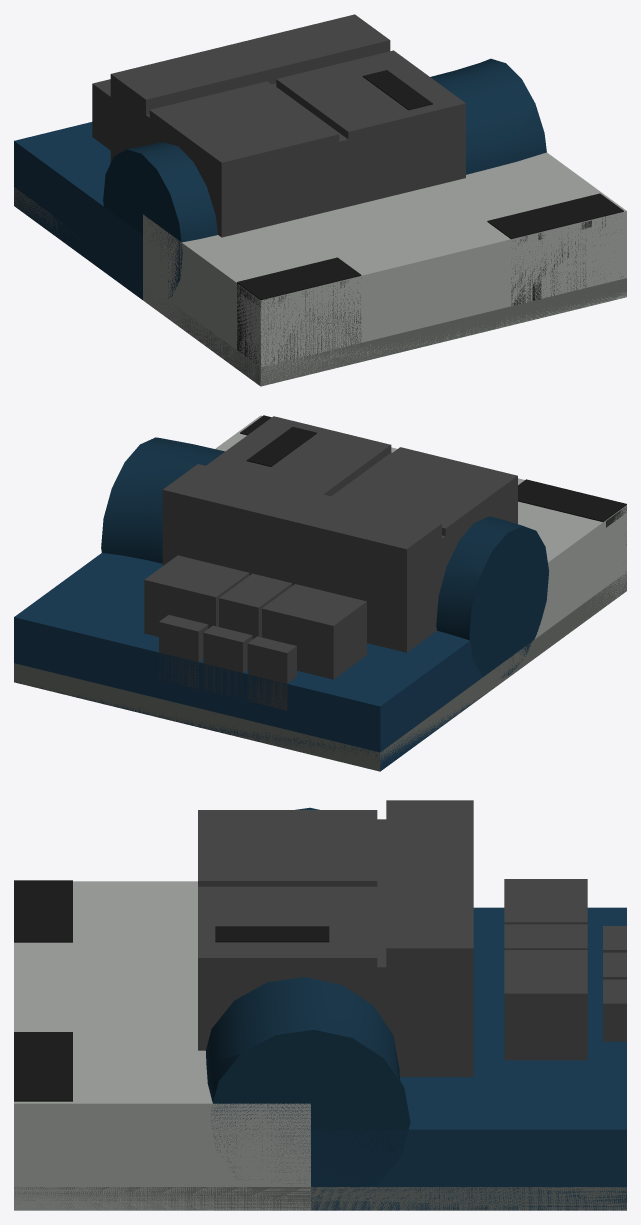
Rendered from newshb-119.glb.
3 views of the same model, one above another, from view 1: azimuth 30°, elevation 25°; view 2: azimuth 150°, elevation 25°; view 3: azimuth 270°, elevation 25° (orthographic). The views are drawn at different scales.
Parts seen in each view (by area): view 1: newshb-119; view 2: newshb-119; view 3: newshb-119.
Boxes of the visible parts, <box> form: newshb-119: <box>14,14,626,386</box>; newshb-119: <box>14,415,626,771</box>; newshb-119: <box>14,800,626,1210</box>.
Size of the model in its own units: 2 by 0.88 by 2.33.
